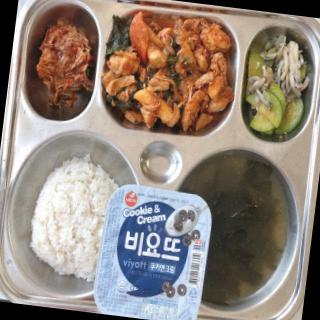Nasi: (27, 151, 135, 287)
